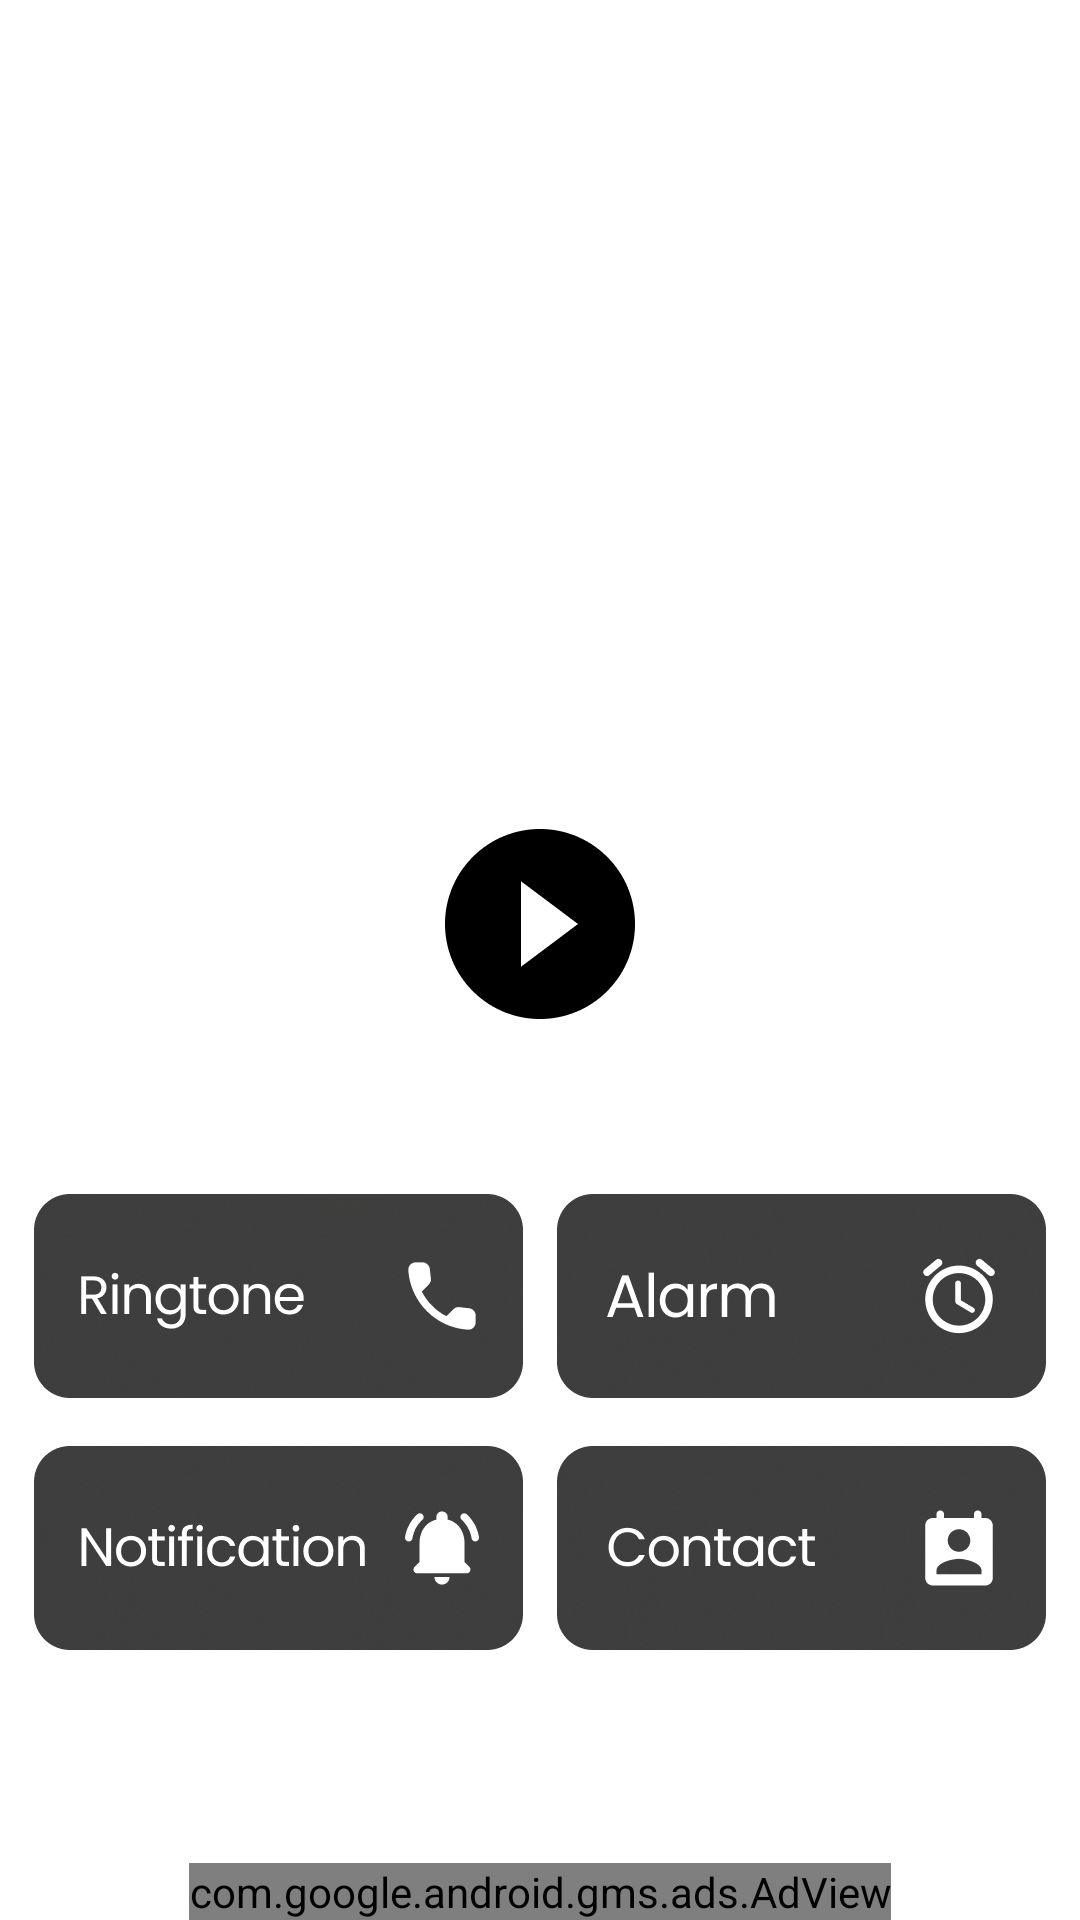

Where to tap for icons on this 1080w x 1920h app screen, as (x=x, y=y):
play: (x=540, y=924)
